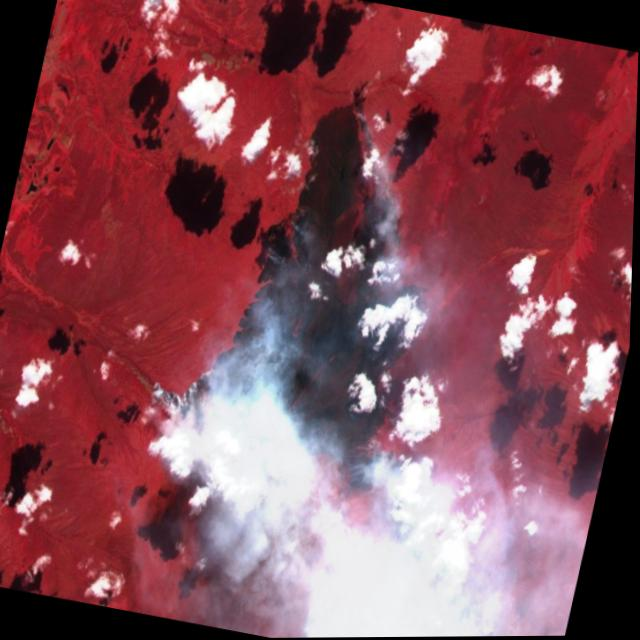fire: (122, 66, 496, 520)
